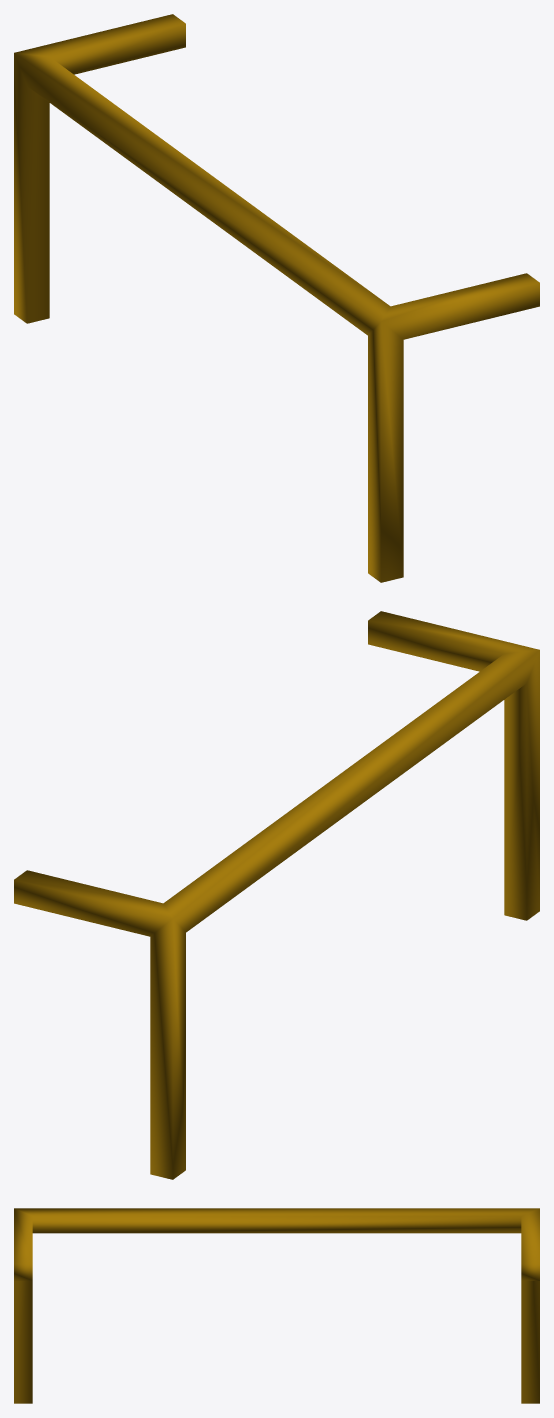
The model's file is Goalsallyback.dae.
The picture shows the model from 3 angles, top to bottom: view 1: azimuth 30°, elevation 25°; view 2: azimuth 150°, elevation 25°; view 3: azimuth 270°, elevation 25°; orthographic projection. The views are drawn at different scales.
Parts seen in each view (by area): view 1: visual_0_field_1_5; view 2: visual_0_field_1_5; view 3: visual_0_field_1_5.
Part boxes in pixels (left/top/right/bottom): visual_0_field_1_5: left=14, top=14, right=539, bottom=582; visual_0_field_1_5: left=14, top=611, right=539, bottom=1179; visual_0_field_1_5: left=14, top=1208, right=539, bottom=1403.
Size of the model in its own units: 0.7 by 2.8 by 1.1.
